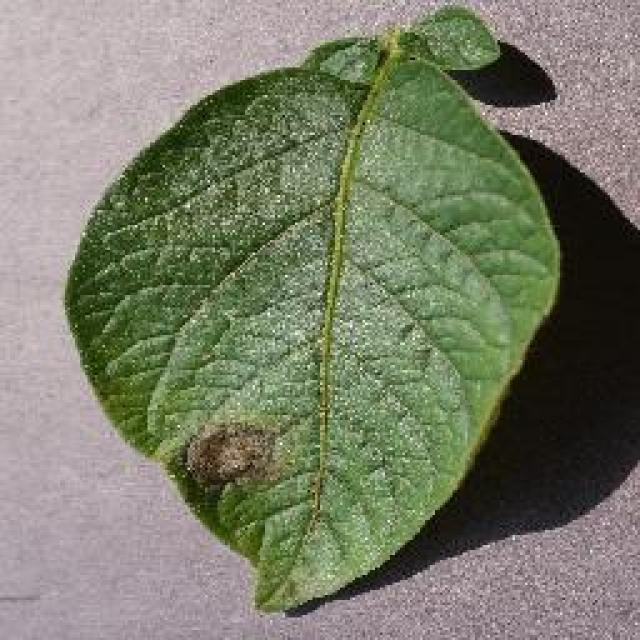Potato___Late_blight: (65, 4, 565, 616)
